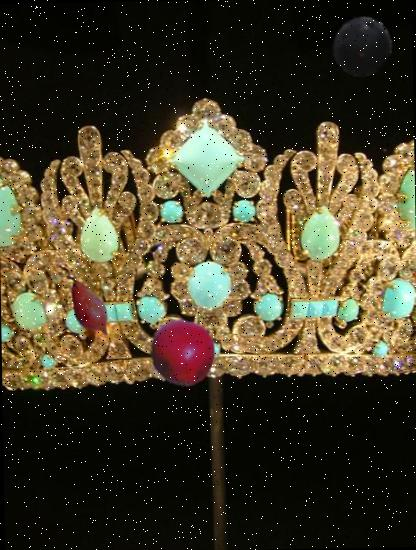Grape: (330, 15, 392, 77)
Pomegranate: (147, 317, 218, 388)
Salak: (57, 278, 121, 342)
